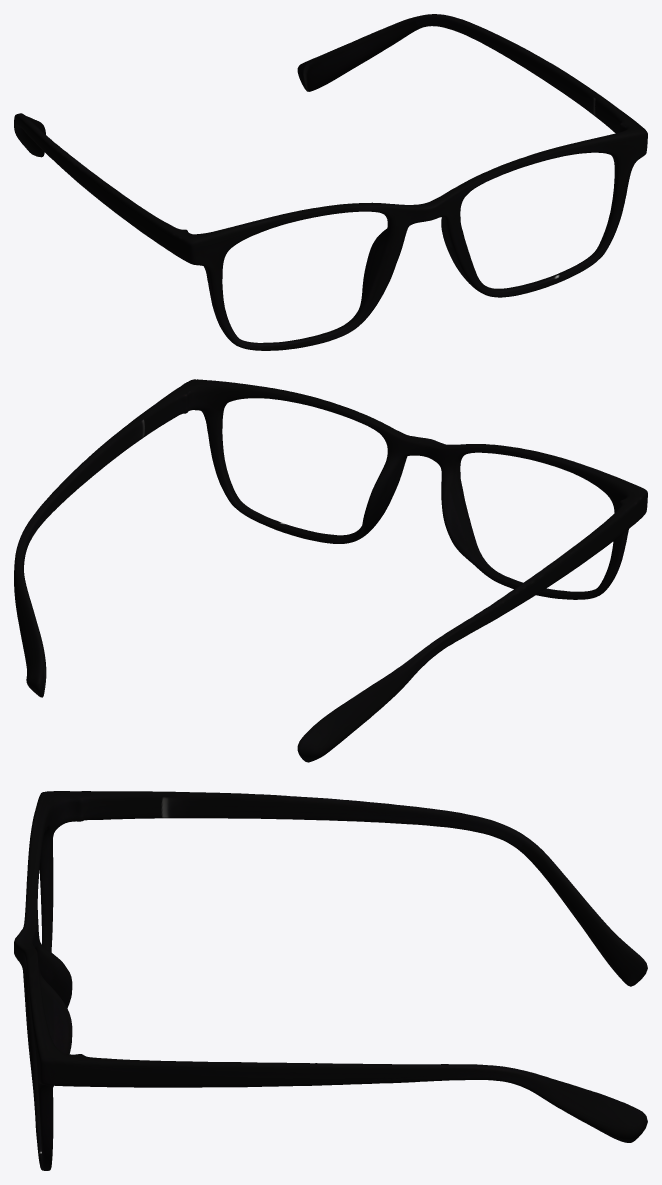
The model's file is glasses1.glb.
The picture shows the model from 3 angles, top to bottom: view 1: azimuth 30°, elevation 25°; view 2: azimuth 150°, elevation 25°; view 3: azimuth 270°, elevation 25°; orthographic projection. The views are drawn at different scales.
Parts seen in each view (by area): view 1: model; view 2: model; view 3: model.
Part boxes in pixels (x1,y1,x2,y2): model: (14,14,647,350); model: (14,379,647,762); model: (14,791,647,1170).
Bounding box in the file's own units: 1.9 × 0.539 × 1.86.
Materials: 1 (1 with a texture image).
